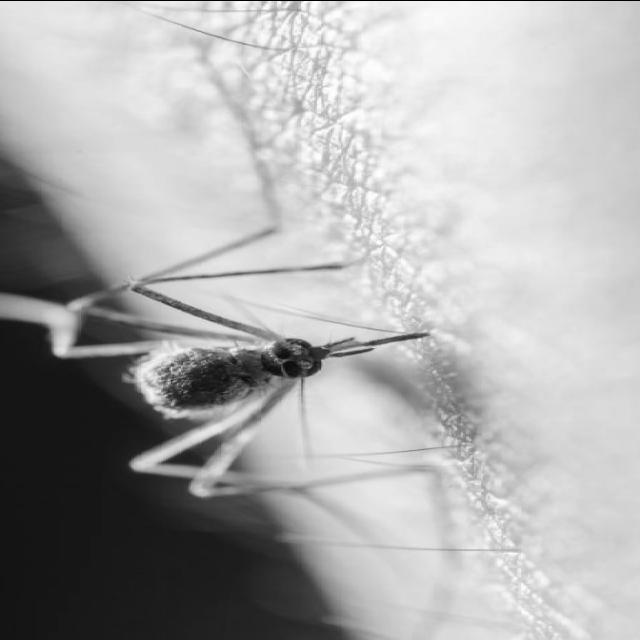Mosquito: (10, 199, 478, 546)
